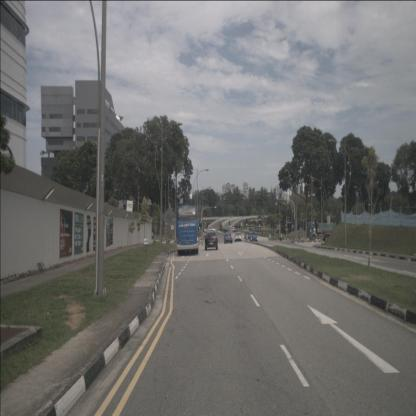vehicle-bus-rigid: (176, 204, 198, 256)
vehicle-car: (204, 230, 218, 250), (224, 232, 233, 244), (250, 232, 258, 242), (234, 232, 242, 242), (244, 231, 250, 240)
vehicle-truck: (307, 221, 335, 241)
